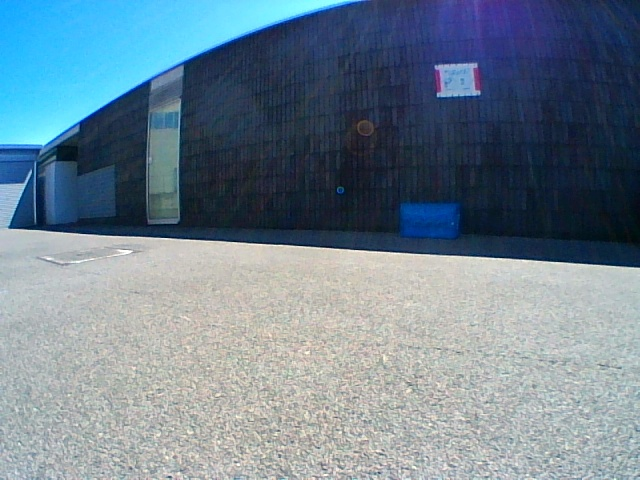blue_box: (400, 203, 458, 238)
